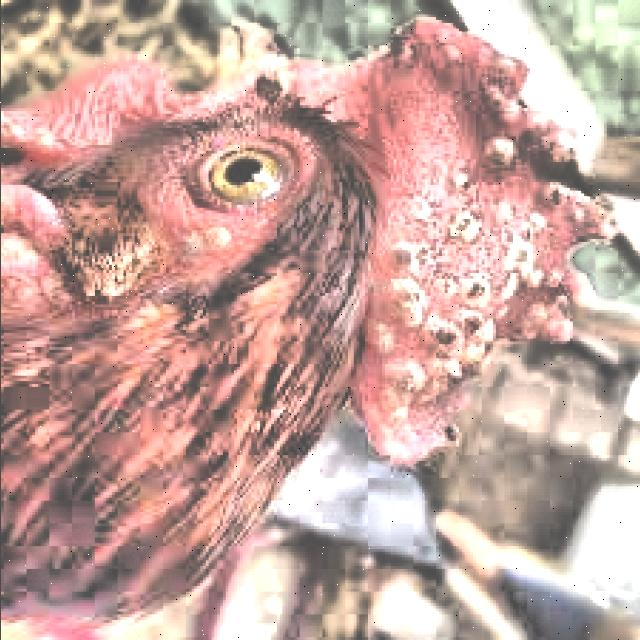Fowlpox: (334, 24, 624, 491)
